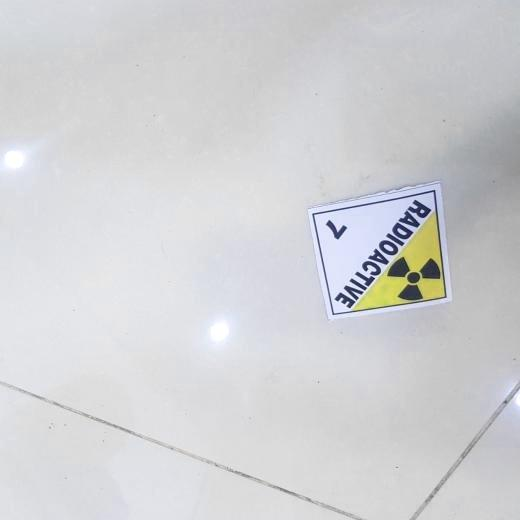radioactive: (307, 180, 454, 322)
